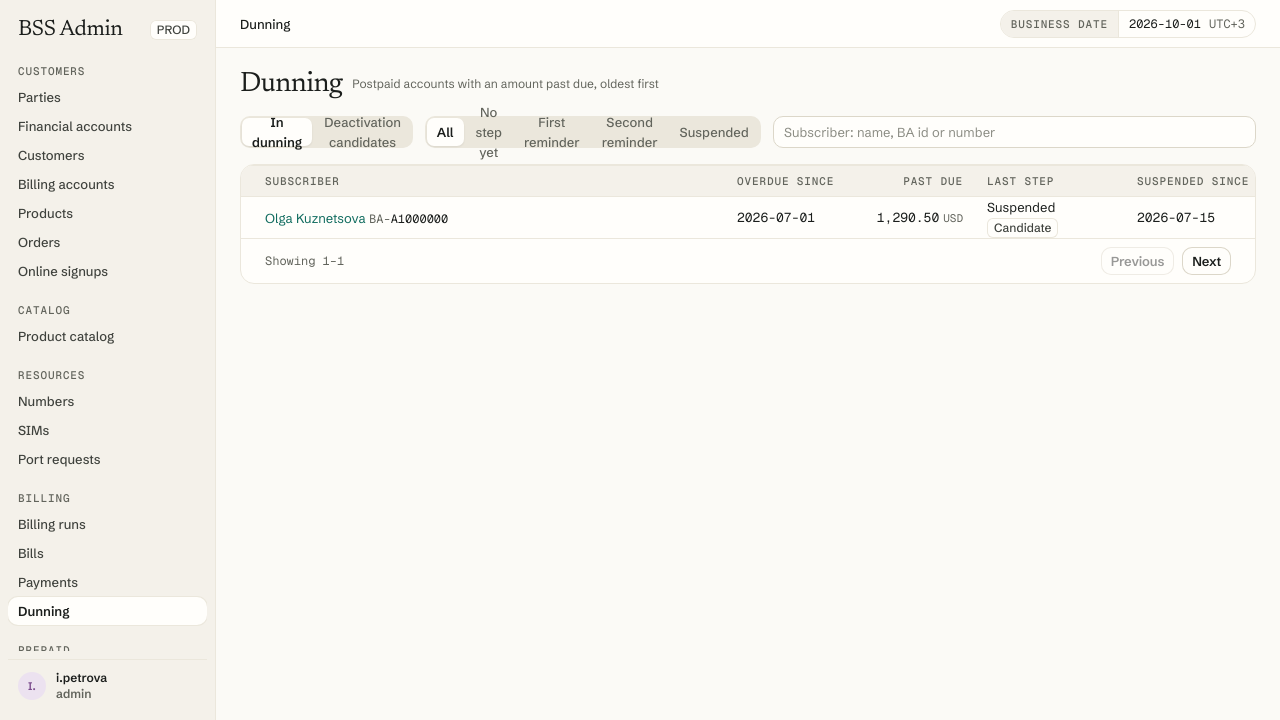
Test: dunning screen › pages with Next while the server says there is more
The image size is (1280, 720).
Expected: the heading "Dunning" is shown, 240,68 -> 342,100
Expected: the link "Olga Kuznetsova" is shown, 265,210 -> 366,226
Click the button "Next" at {"x": 1207, "y": 261}, box 1182,247 -> 1231,275
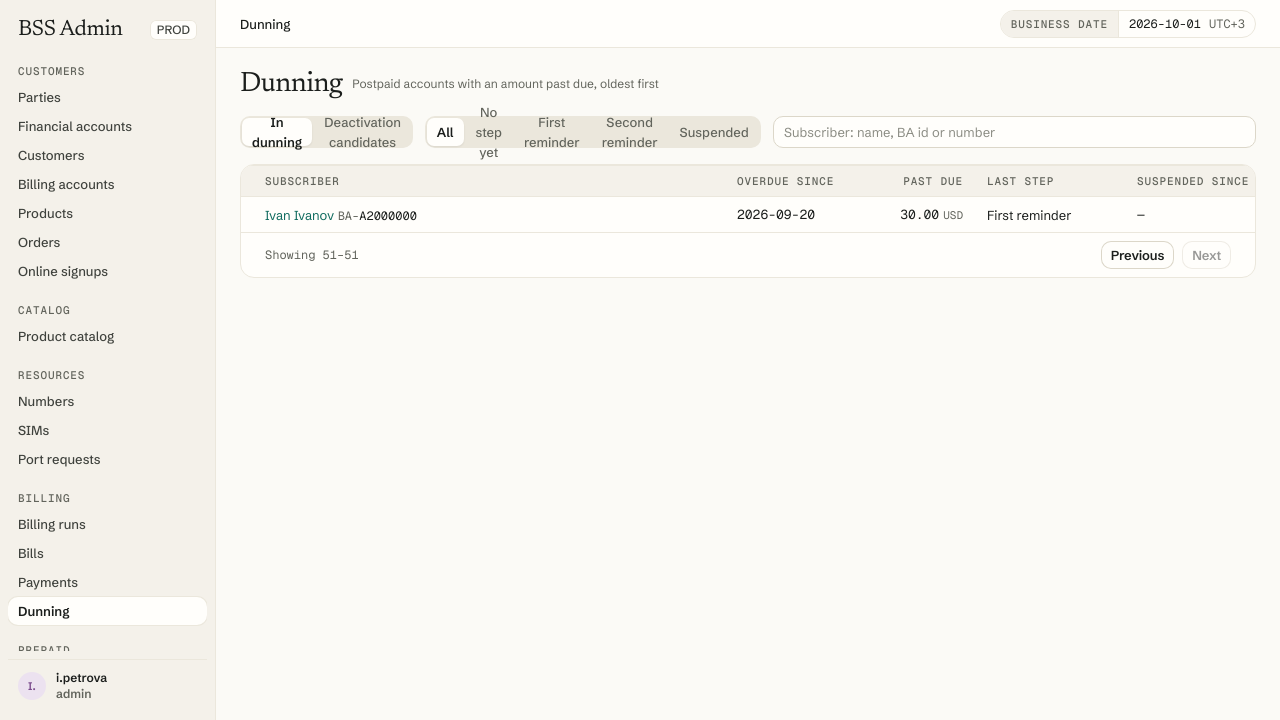
Expected: the link "Ivan Ivanov" is shown, 265,207 -> 334,223
